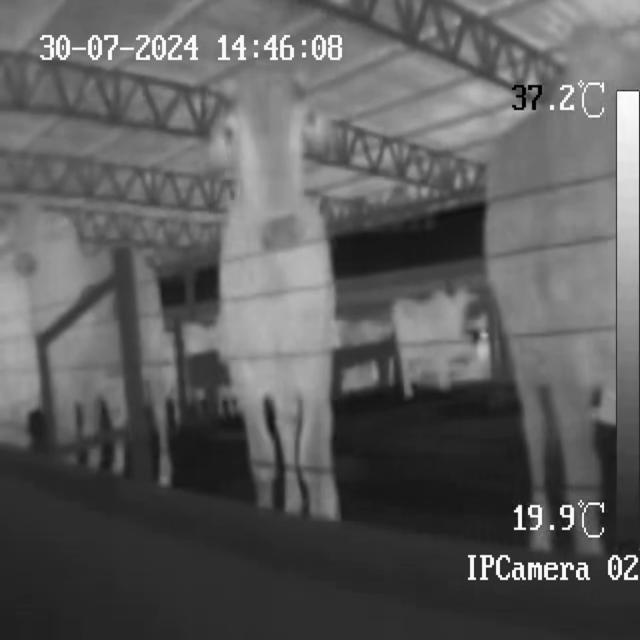eye: (240, 128, 256, 160), (288, 125, 302, 156)
head: (223, 72, 311, 247)
